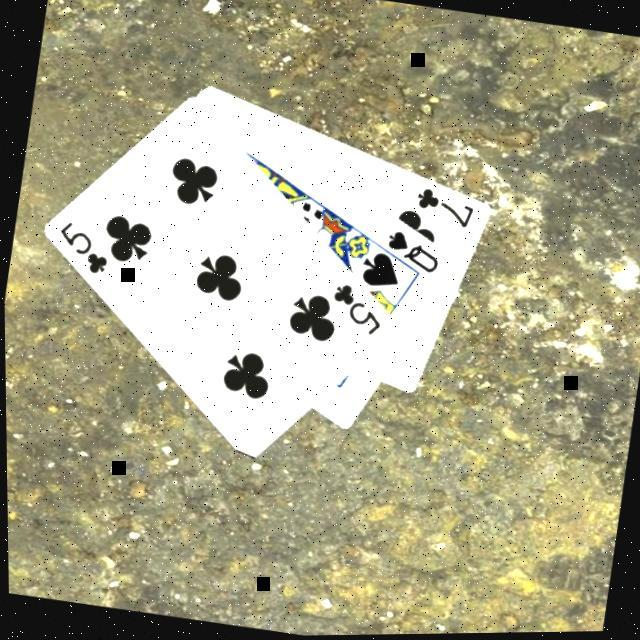5C: (51, 216, 118, 279), (324, 278, 391, 340)
7C: (410, 183, 480, 234)
QS: (380, 224, 447, 278)
